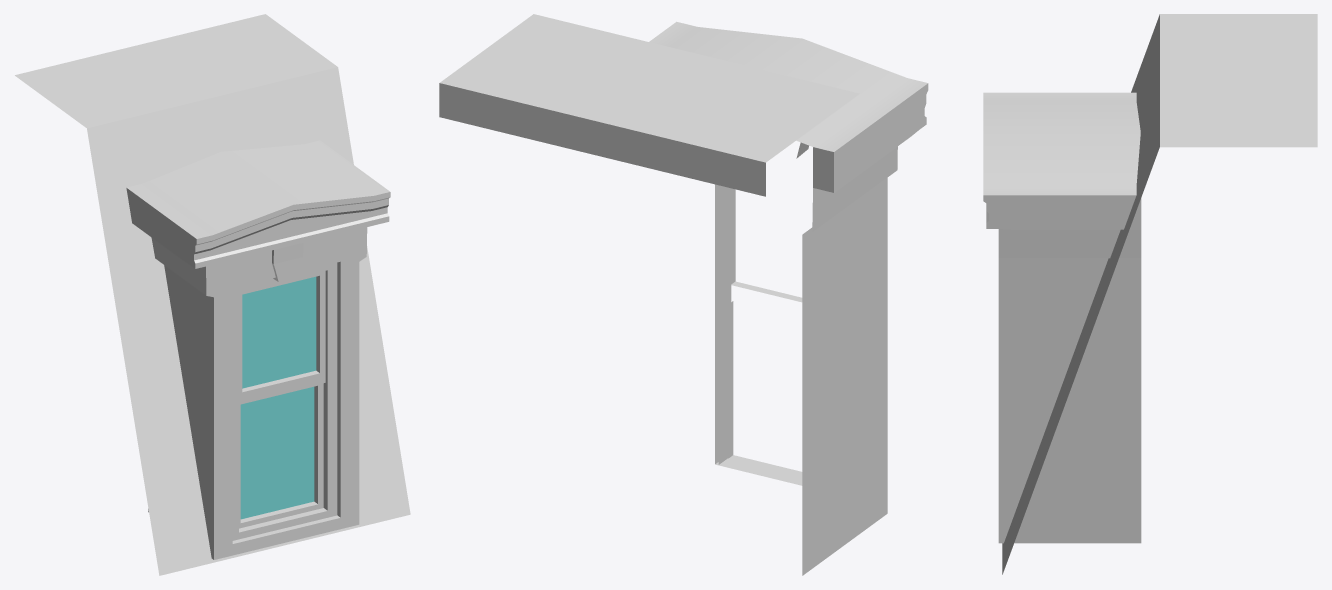
The model's file is Roof_Slate_Window_1.gltf.
3 views of the same model, side by side, from view 1: azimuth 30°, elevation 25°; view 2: azimuth 150°, elevation 25°; view 3: azimuth 270°, elevation 25° (orthographic). The views are drawn at different scales.
Visible parts, largest first — view 1: Roof_Slate_Window_1; view 2: Roof_Slate_Window_1; view 3: Roof_Slate_Window_1.
Part boxes in pixels (x1,y1,x2,y2): Roof_Slate_Window_1: (15,14,410,575); Roof_Slate_Window_1: (439,14,928,575); Roof_Slate_Window_1: (983,14,1317,574).
Size of the model in its own units: 2 by 3 by 2.12.
